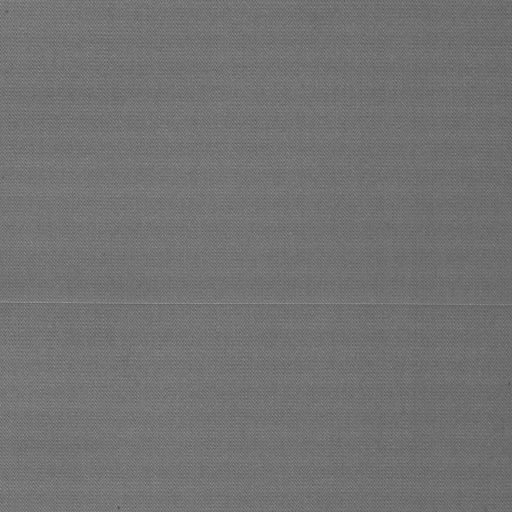defect: (2, 298, 512, 309)
